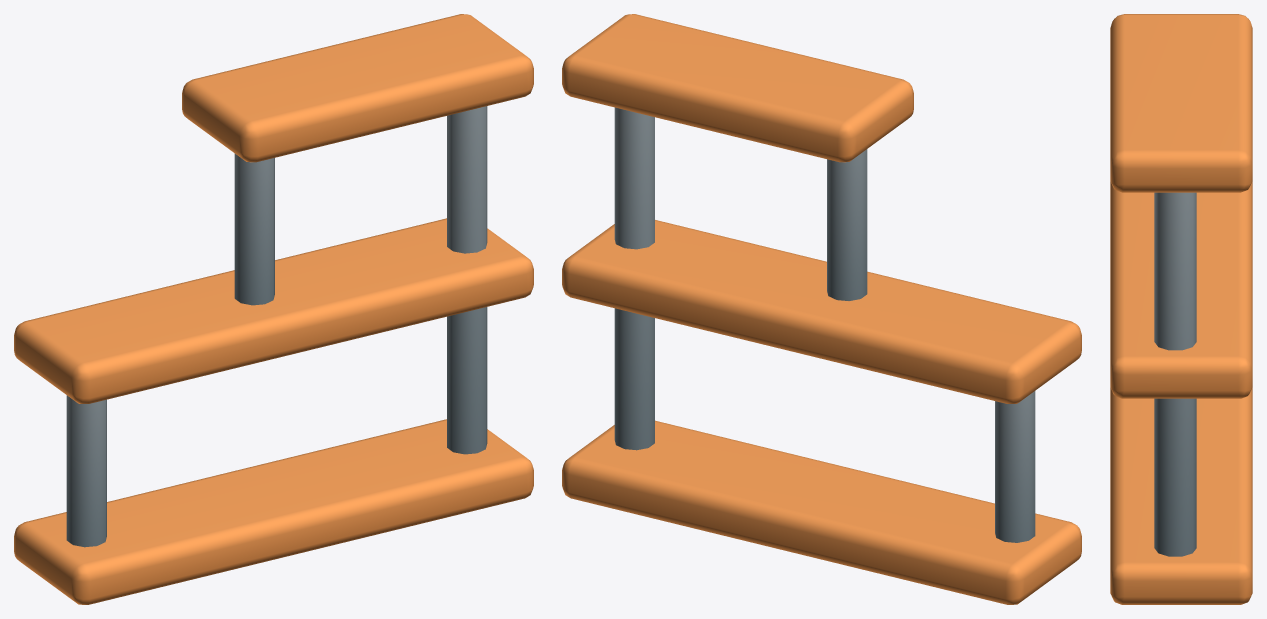
Rendered from Shelf_02.glb.
The picture shows the model from 3 angles, left to right: view 1: azimuth 30°, elevation 25°; view 2: azimuth 150°, elevation 25°; view 3: azimuth 270°, elevation 25°; orthographic projection. The views are drawn at different scales.
Parts seen in each view (by area): view 1: Shelf_02; view 2: Shelf_02; view 3: Shelf_02.
Boxes of the visible parts, x1,y1,x2,y2 form: Shelf_02: (14,14,533,604); Shelf_02: (562,14,1081,604); Shelf_02: (1110,14,1252,604).
Size of the model in its own units: 0.96 by 0.8804 by 0.25.
1 material, 1 textured.
